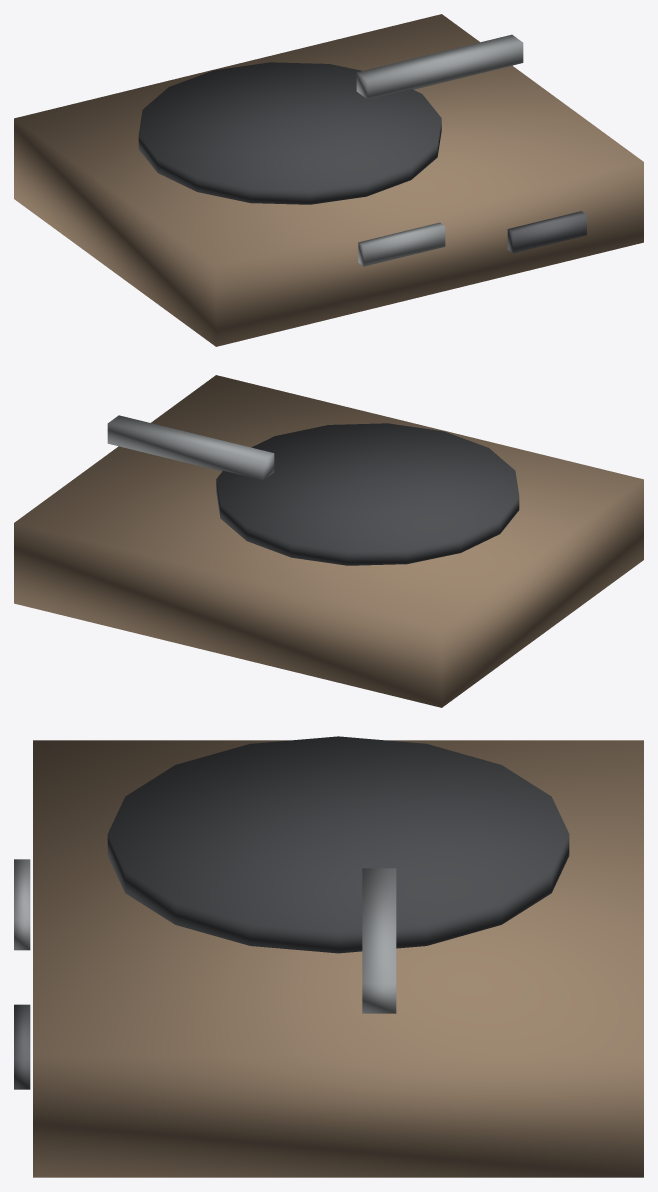
The model's file is record_player__weathered.glb.
3 views of the same model, one above another, from view 1: azimuth 30°, elevation 25°; view 2: azimuth 150°, elevation 25°; view 3: azimuth 270°, elevation 25° (orthographic). The views are drawn at different scales.
Parts seen in each view (by area): view 1: world; view 2: world; view 3: world.
Boxes of the visible parts, left/top/right/bottom form: world: left=14, top=14, right=643, bottom=346; world: left=14, top=375, right=643, bottom=707; world: left=14, top=736, right=643, bottom=1177.
Size of the model in its own units: 0.55 by 0.151 by 0.464.
